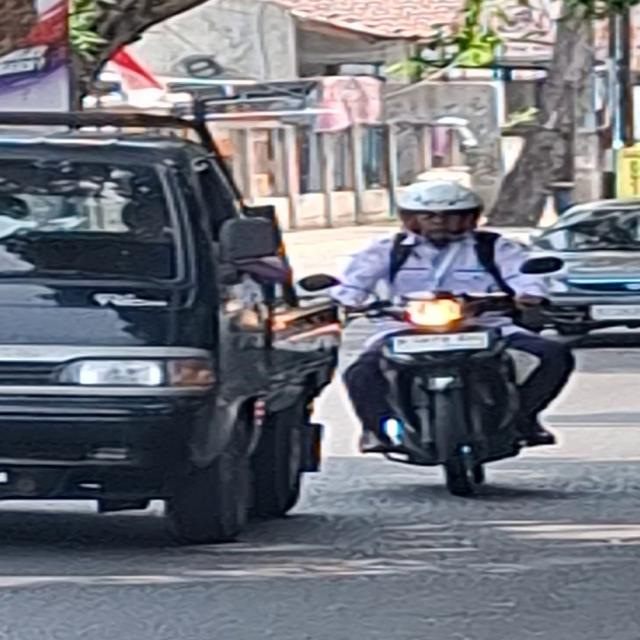WithHelmet: (323, 179, 578, 452)
